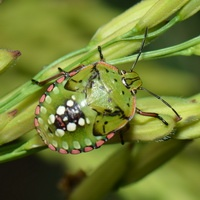insect: (32, 27, 168, 153)
